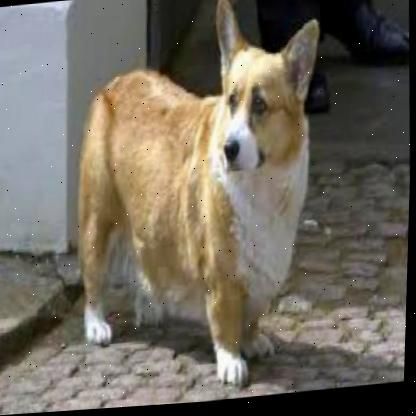dog: (64, 0, 335, 405)
